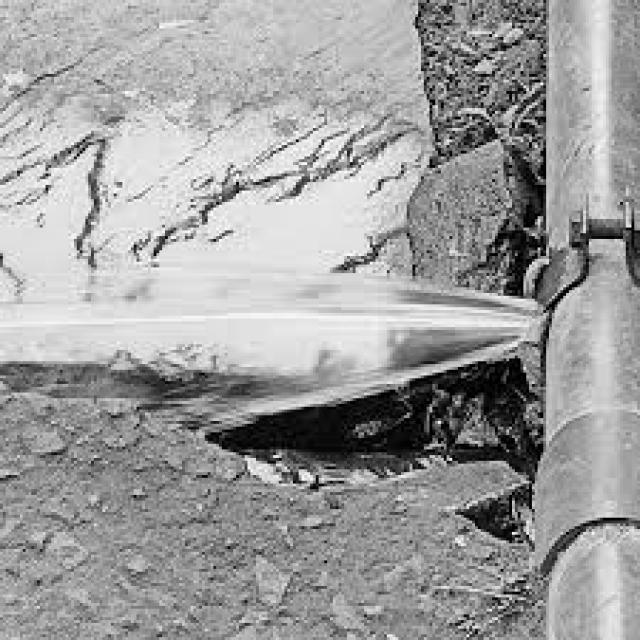corrosion: (458, 250, 605, 398)
